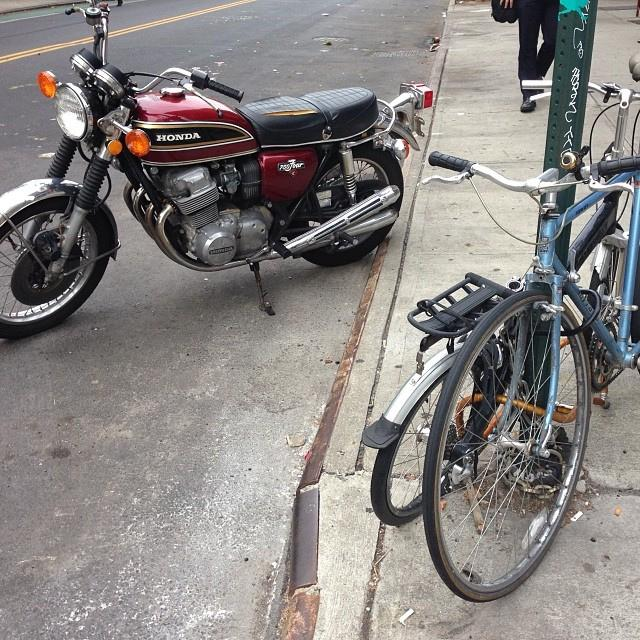motor: (0, 11, 402, 341)
